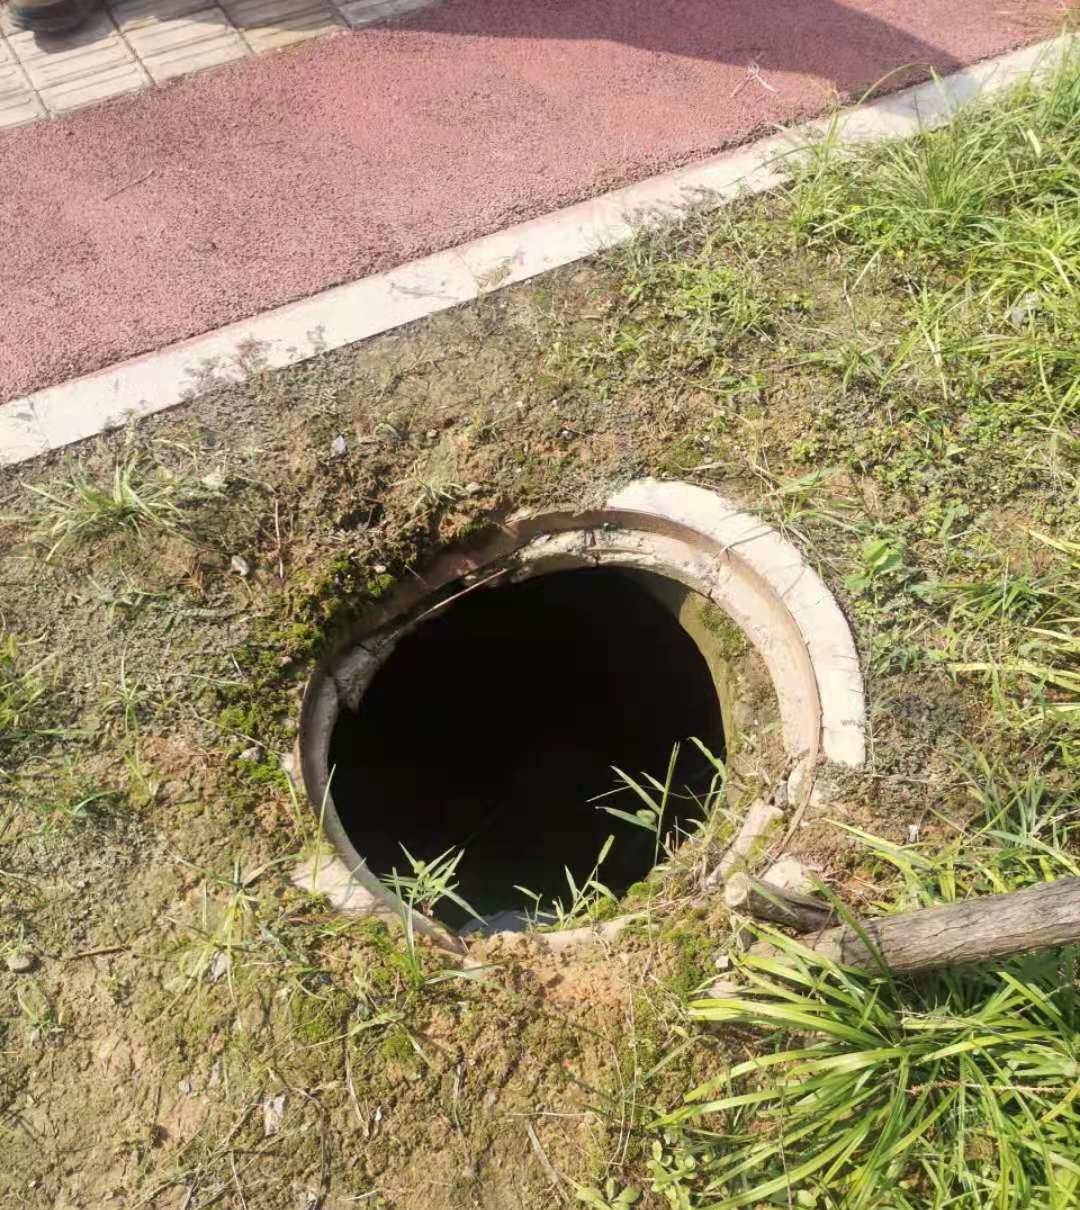lose: (279, 473, 867, 947)
